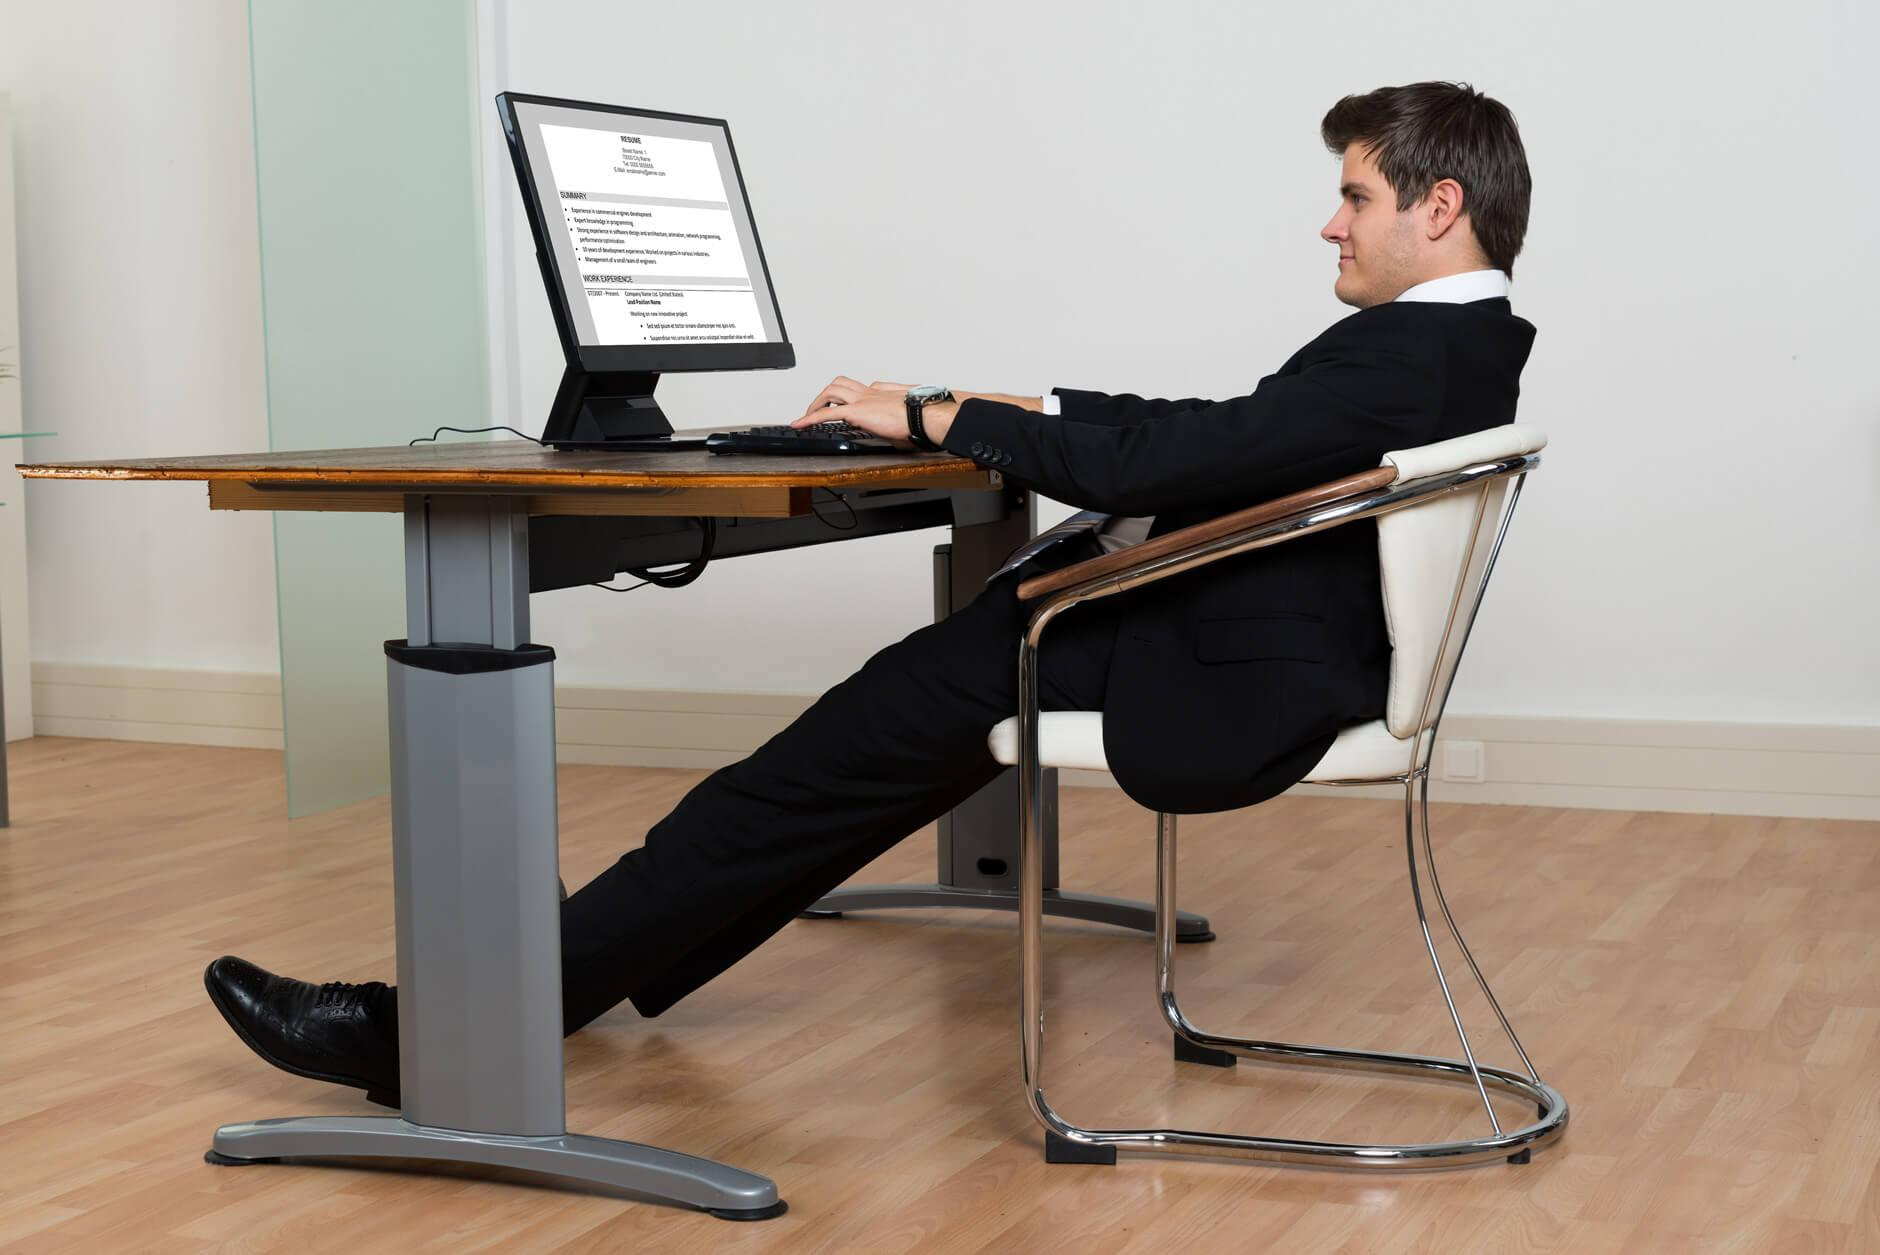Bad Sitting Posture: (375, 83, 1722, 734)
